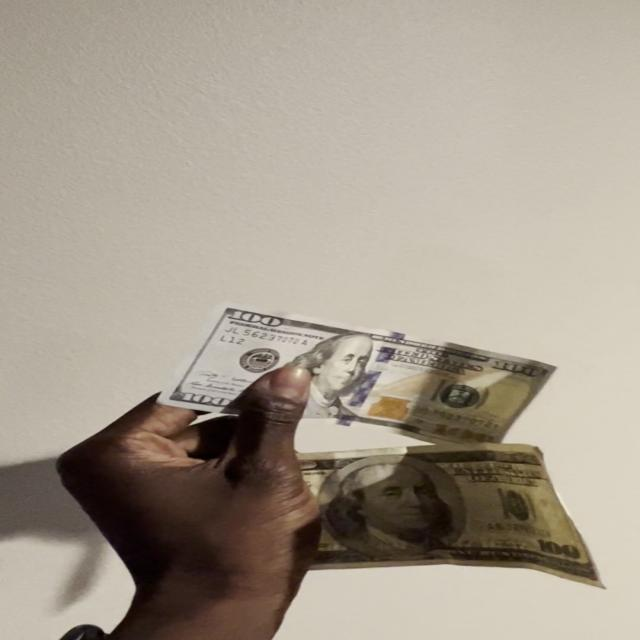hundred: (158, 303, 562, 446), (287, 444, 606, 590)
